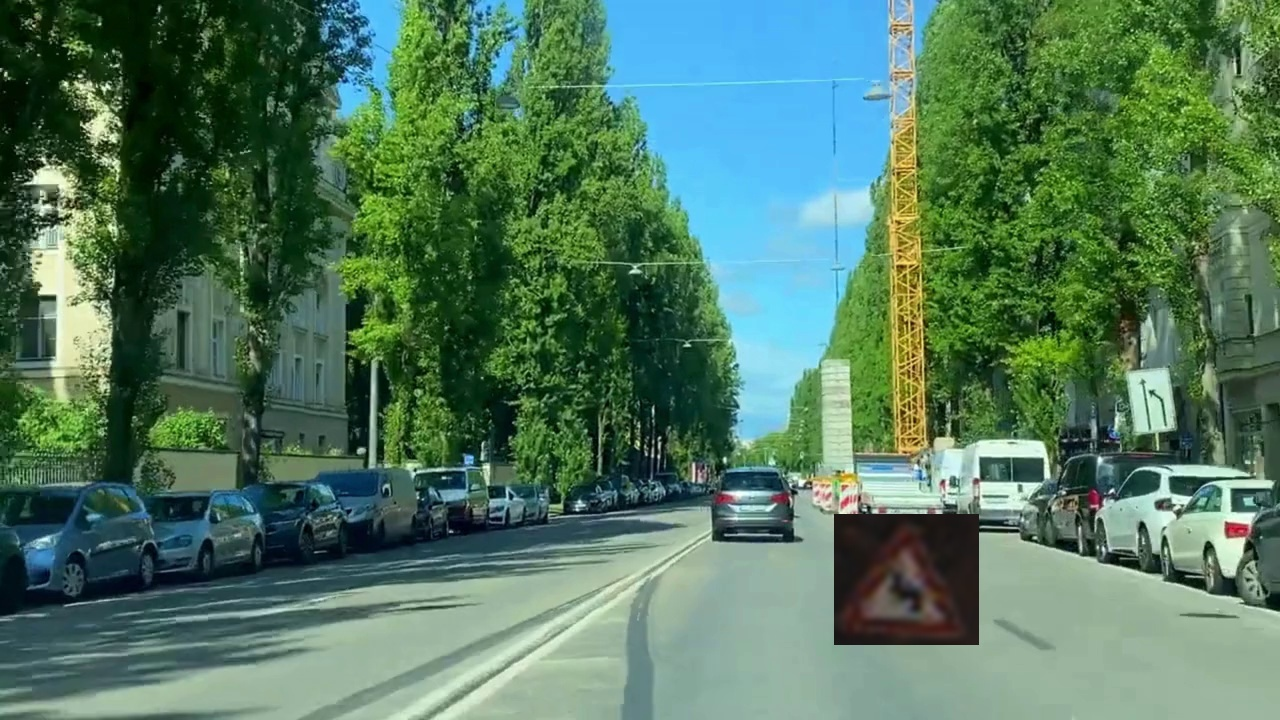Double curve: (834, 514, 979, 645)
